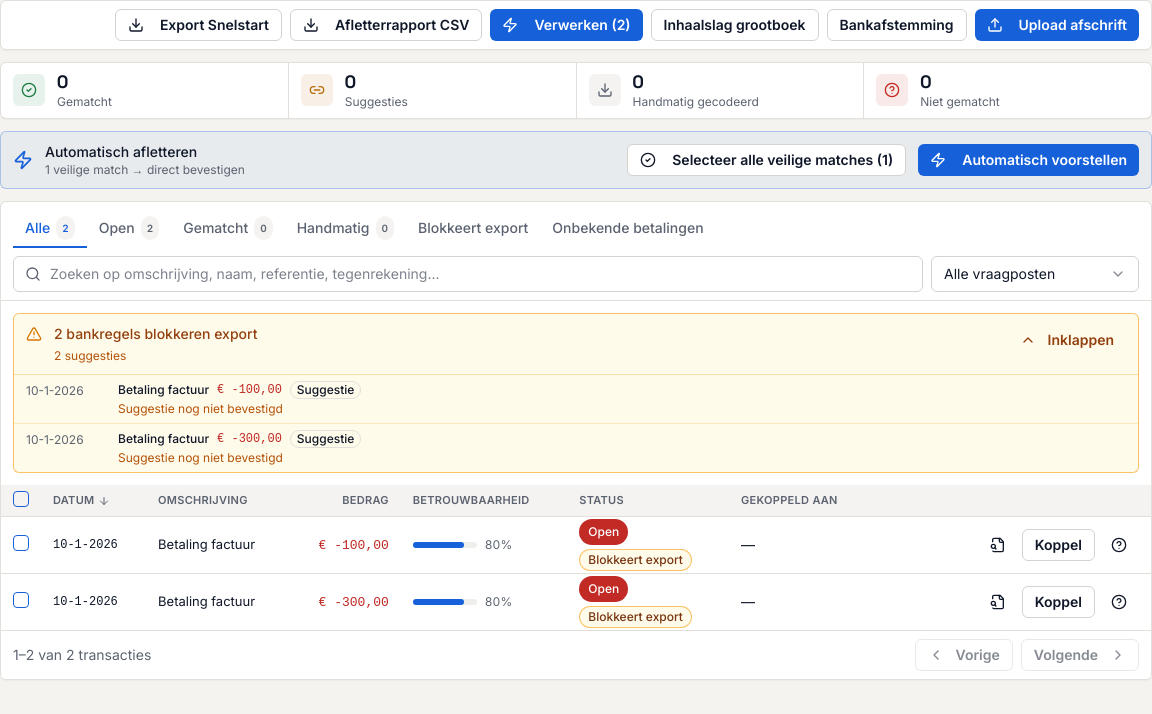
Test: Bank — veilige matches (banner + selectieknop) › laat bestaande handmatige selecties intact
# Selecteer eerst handmatig de onveilige rij via haar checkbox.
Click the 3rd checkbox at (21, 600), box [13,592,29,608]
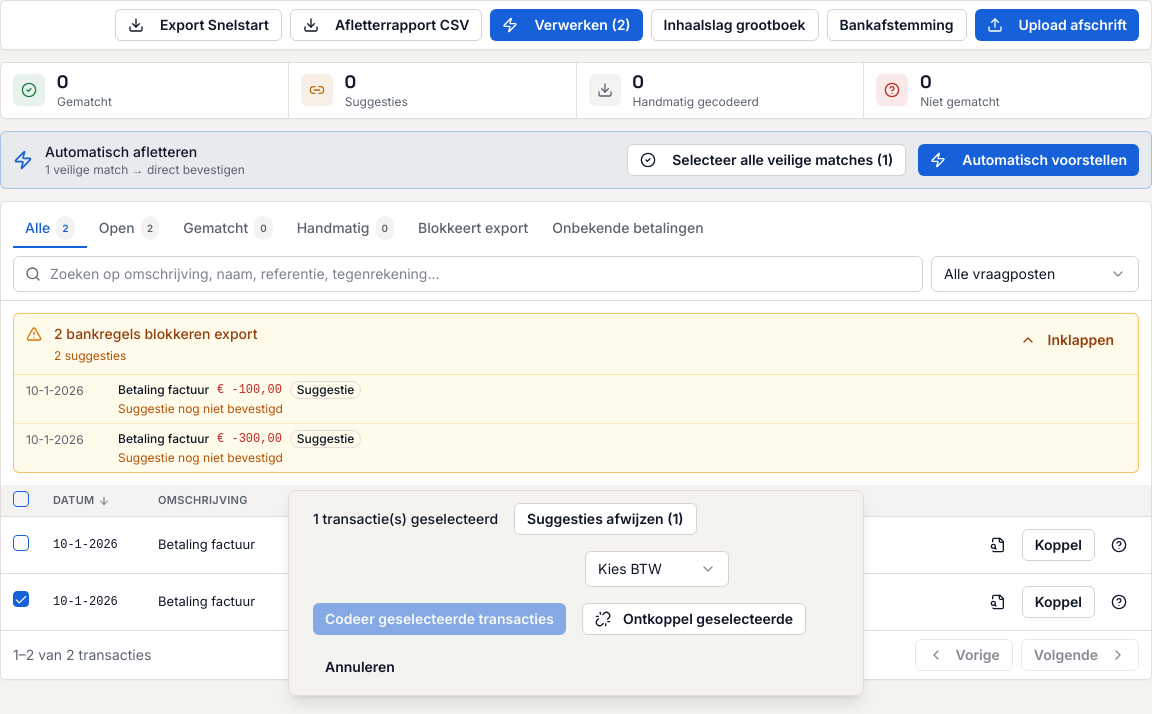
expect the text "1 transactie(s) geselecteerd" is shown: met, box [313,509,498,529]
Click the button "Selecteer alle veilige matches (1)" at (767, 160), box [627,144,906,176]
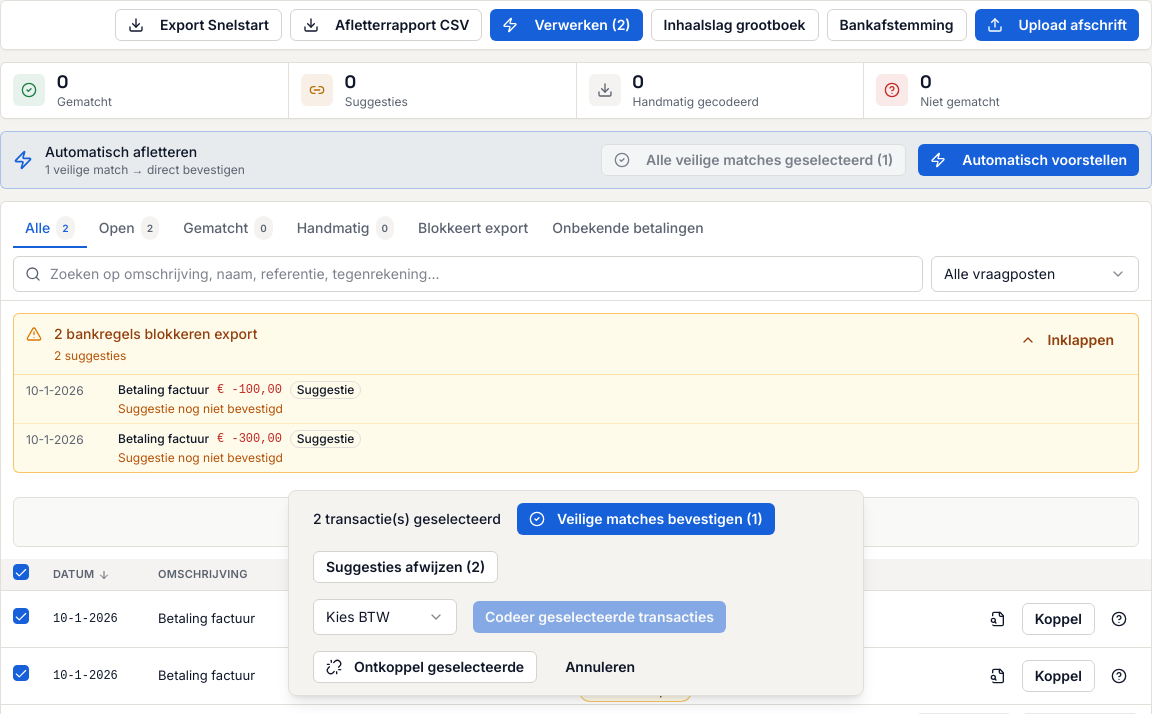
expect the text "2 transactie(s) geselecteerd" is shown: met, box [313,509,501,529]
